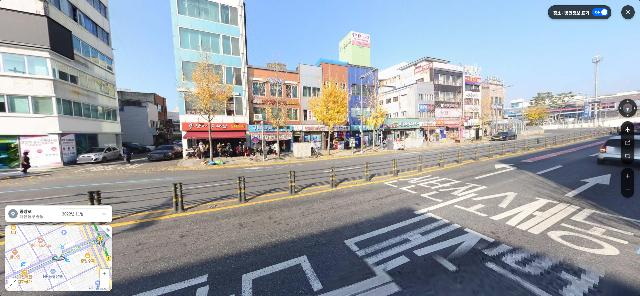ginkgo: (183, 39, 237, 165), (307, 65, 349, 155), (259, 48, 292, 159), (358, 75, 389, 152), (476, 88, 493, 140), (524, 109, 546, 132)
other: (421, 84, 440, 146), (454, 81, 467, 143)
